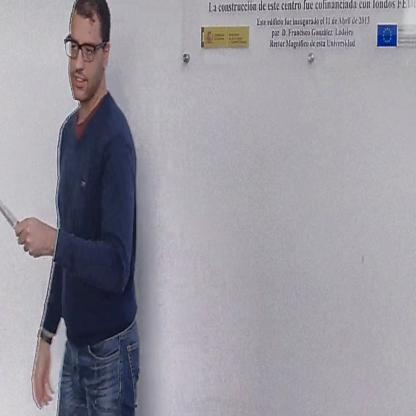knife: (0, 184, 34, 249)
